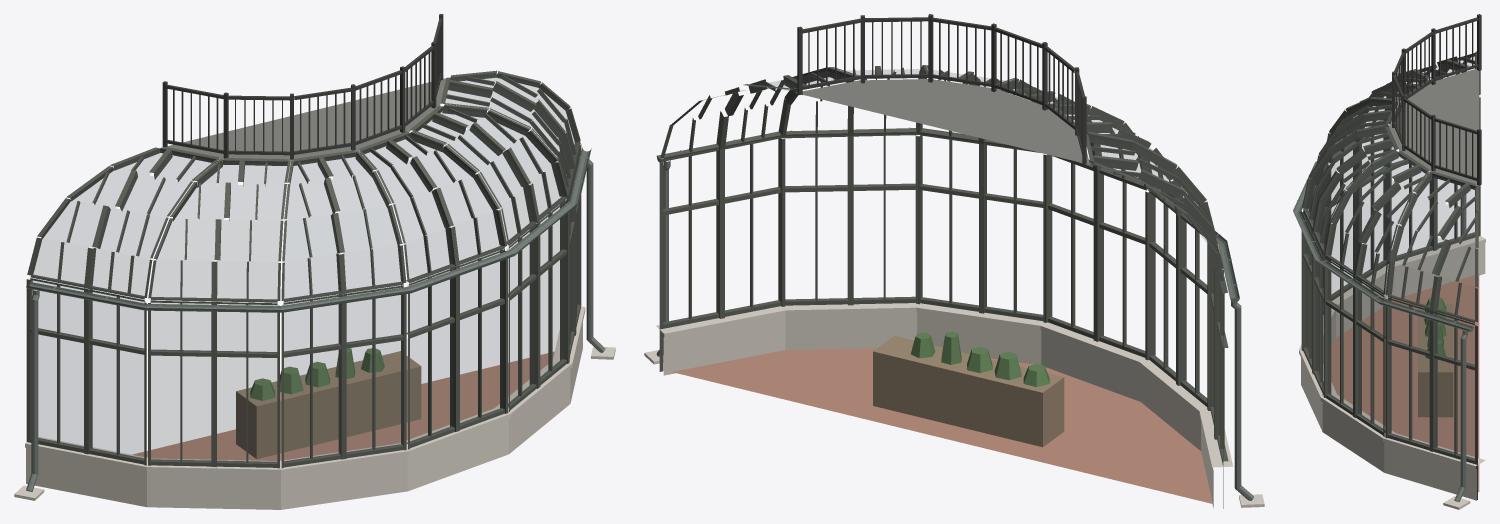
The model's file is marshall_field_house_1905_prairie_conservatory__as_mapped_1904.glb.
3 renders of one model, left to right at view 1: azimuth 30°, elevation 25°; view 2: azimuth 150°, elevation 25°; view 3: azimuth 270°, elevation 25°, orthographic. The views are drawn at different scales.
Parts seen in each view (by area): view 1: marshall_field_house_1905_prairie_conservatory__as_mapped_19; view 2: marshall_field_house_1905_prairie_conservatory__as_mapped_19; view 3: marshall_field_house_1905_prairie_conservatory__as_mapped_19.
Part boxes in pixels (box(x1,y1,x2,y2)): marshall_field_house_1905_prairie_conservatory__as_mapped_19: box(14, 14, 615, 509); marshall_field_house_1905_prairie_conservatory__as_mapped_19: box(644, 14, 1264, 508); marshall_field_house_1905_prairie_conservatory__as_mapped_19: box(1293, 14, 1485, 509).
Size of the model in its own units: 9.17 by 5.34 by 2.99.
